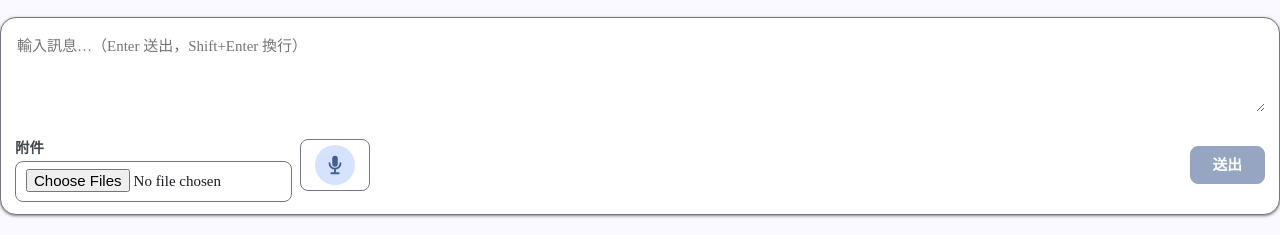
MessageComposer (E03-S006/S007/S008/S009) › enables the submit button once non-whitespace text is entered
Type "你好" into the text box labelled "訊息" at (640, 71), box [15,30,1265,112]
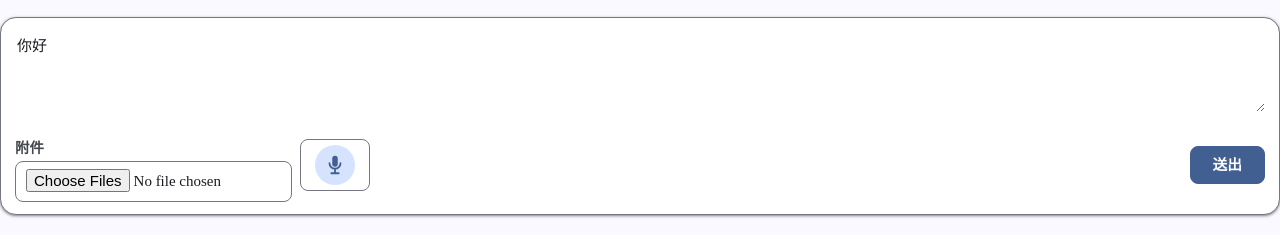
Result: the button "送出" is enabled at [1190,146,1265,184]
